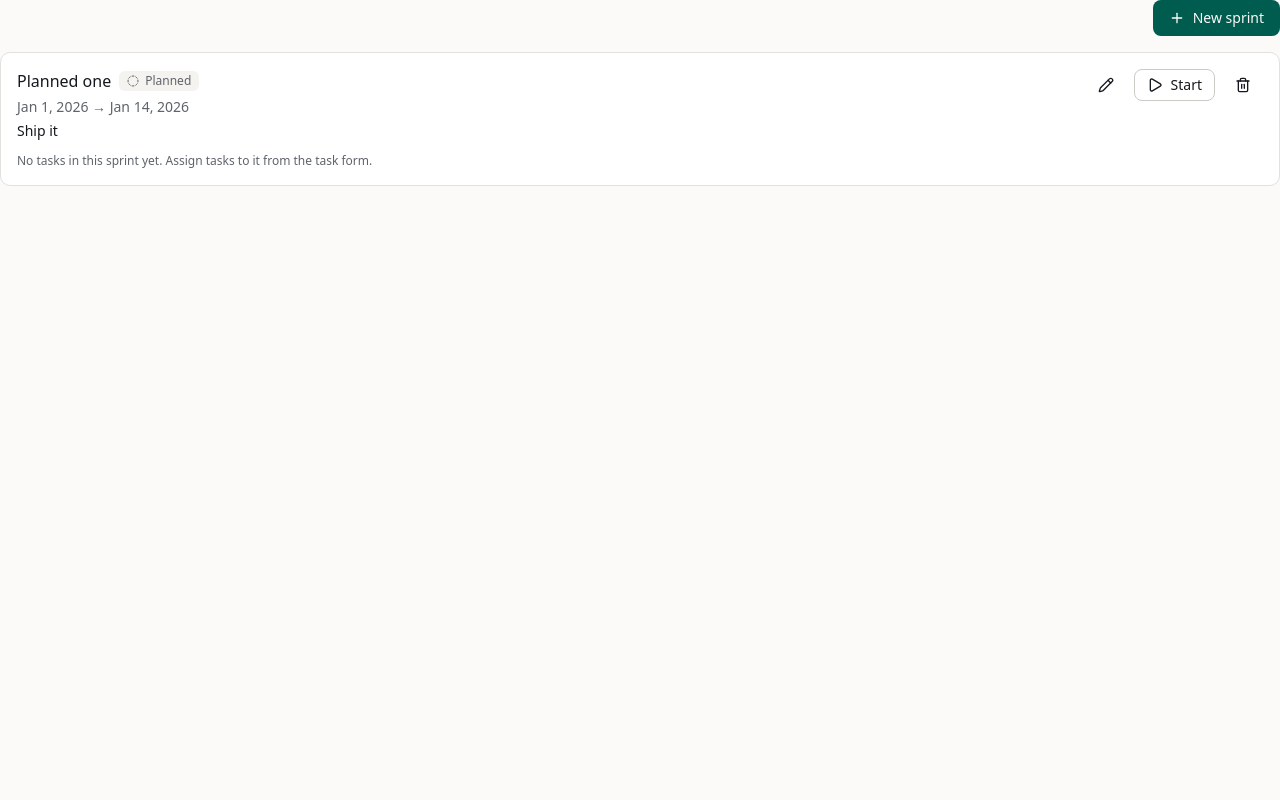
Test: SprintPanel › starts a planned sprint and opens the edit dialog prefilled
Click the button "Start" at (1174, 85), box [1134,69,1215,101]
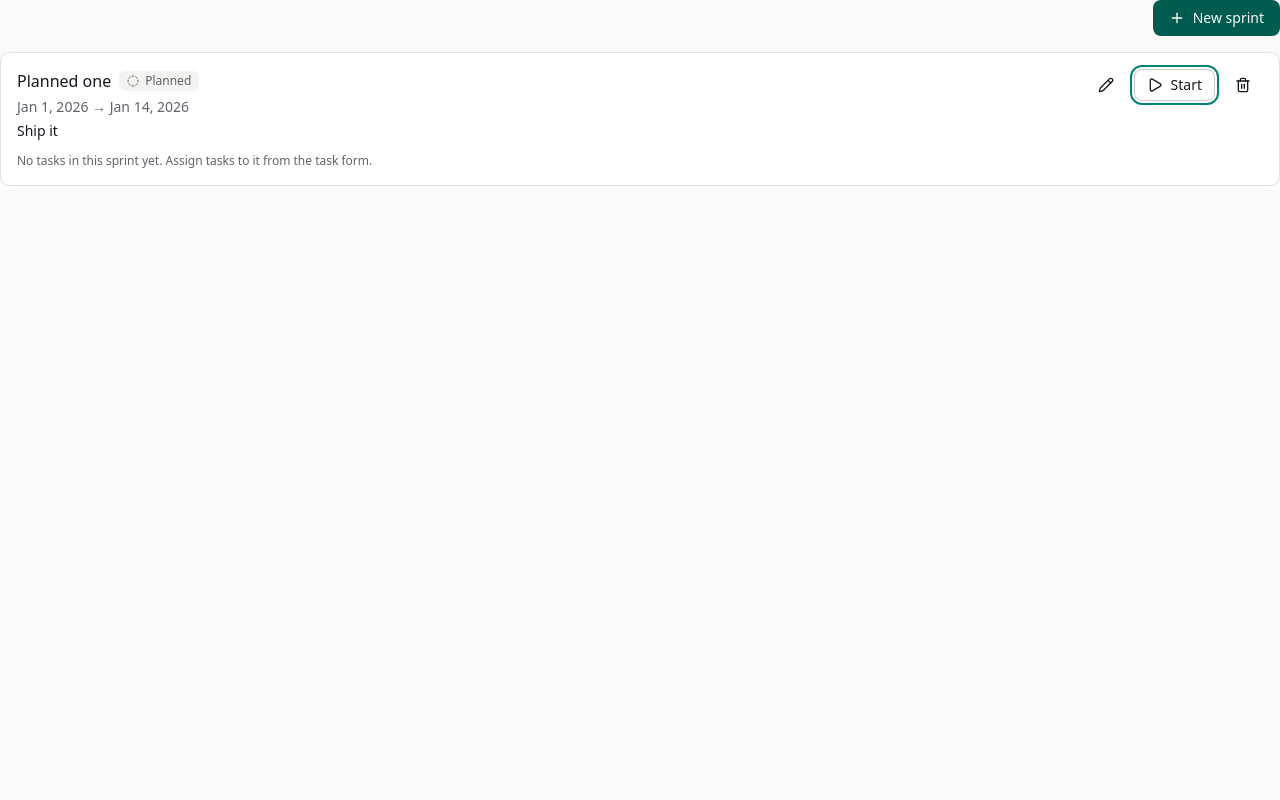
Click the button named "Edit Planned one" at (1106, 85), box [1086,69,1126,101]
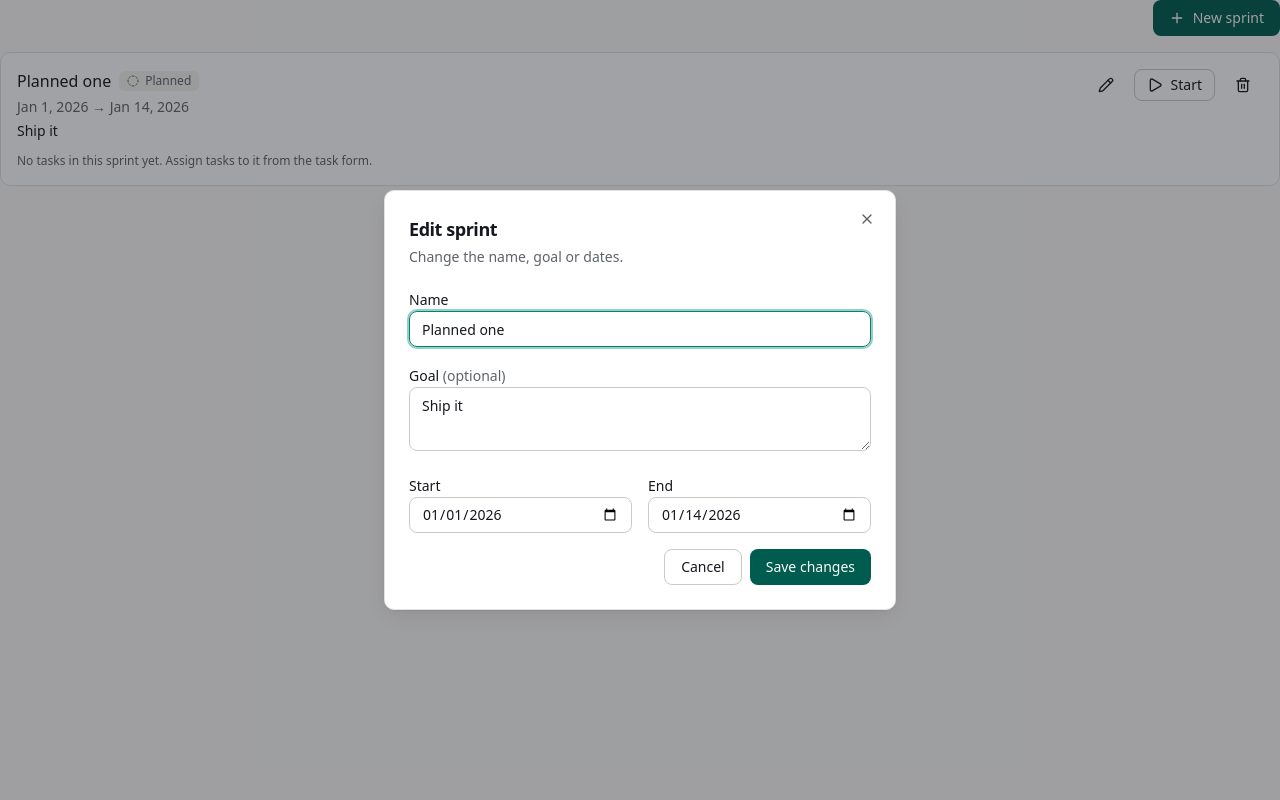
Expected: the dialog "Edit sprint" is shown, [384,190,896,610]
Expected: the field labelled "Name" holds "Planned one", [409,311,871,347]
